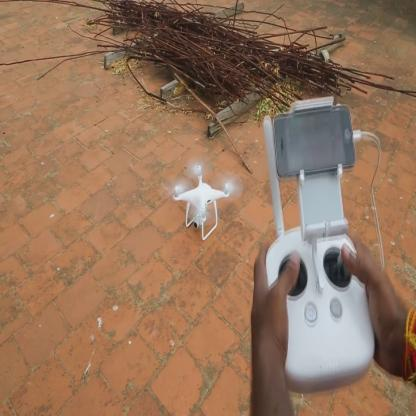drone: (169, 149, 241, 239)
